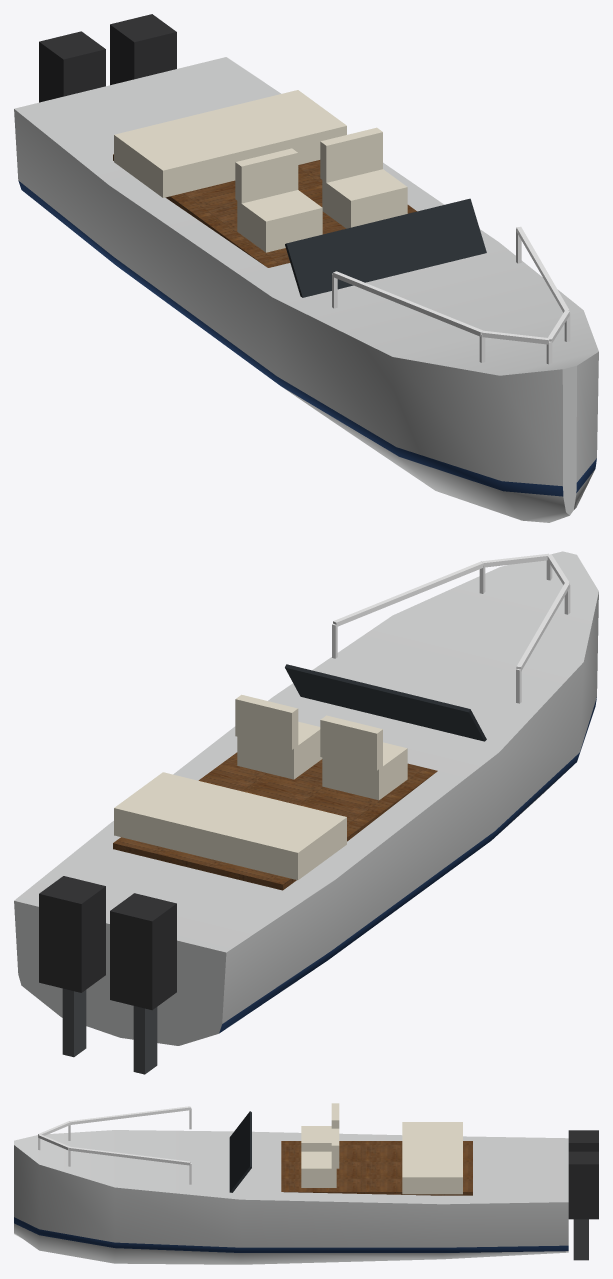
File: boat_speed.glb
3 renders of one model, top to bottom at view 1: azimuth 30°, elevation 25°; view 2: azimuth 150°, elevation 25°; view 3: azimuth 270°, elevation 25°, orthographic. The views are drawn at different scales.
Parts seen in each view (by area): view 1: boat_speed; view 2: boat_speed; view 3: boat_speed.
Part boxes in pixels (box(x1,y1,x2,y2)): boat_speed: box(14, 14, 598, 522); boat_speed: box(14, 551, 598, 1074); boat_speed: box(14, 1103, 598, 1264).
Size of the model in its own units: 0.16 by 0.1425 by 0.58.
8 materials, 1 textured.
